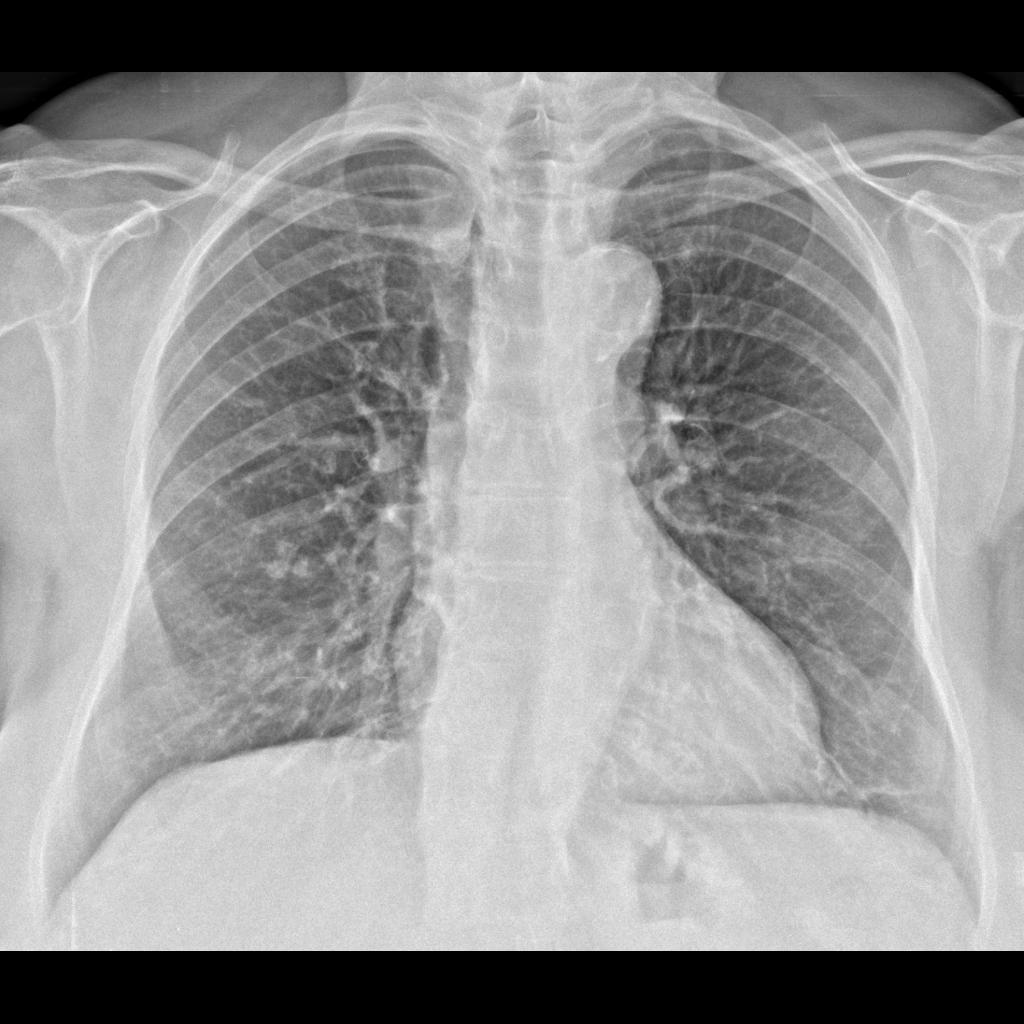Nodule: (277, 537, 303, 564), (263, 561, 289, 584), (294, 556, 313, 584)
